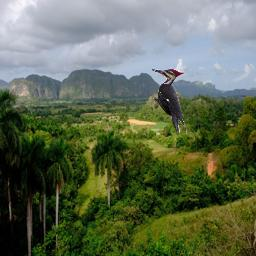Woodpecker: (151, 69, 185, 134)
